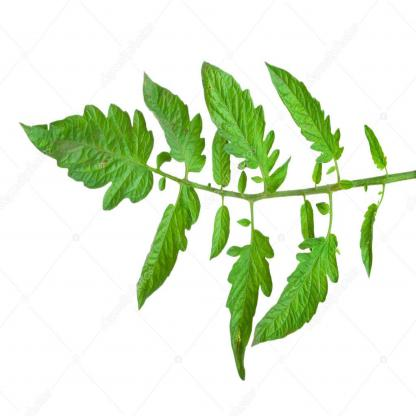Tomato leaf: (17, 100, 158, 214), (195, 57, 287, 192), (254, 224, 338, 349), (263, 58, 344, 178), (129, 190, 193, 310), (139, 78, 210, 182), (229, 224, 269, 388)
